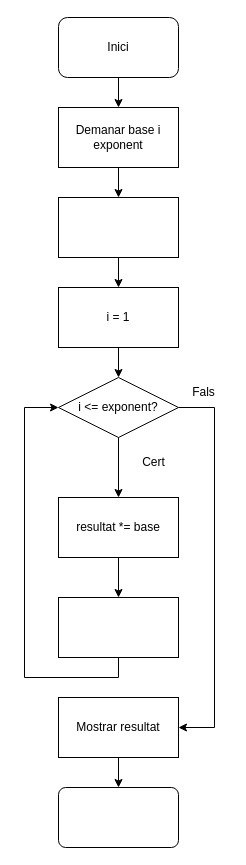
This 246x865 diagram has some shape labels left out. The shapes that lost their labels are listed below. From the top down, each one's centre as x and y in pixels, then its label:
At pixel 118 227: "resultat = 1".
At pixel 118 627: "i++".
At pixel 118 817: "Fi".
